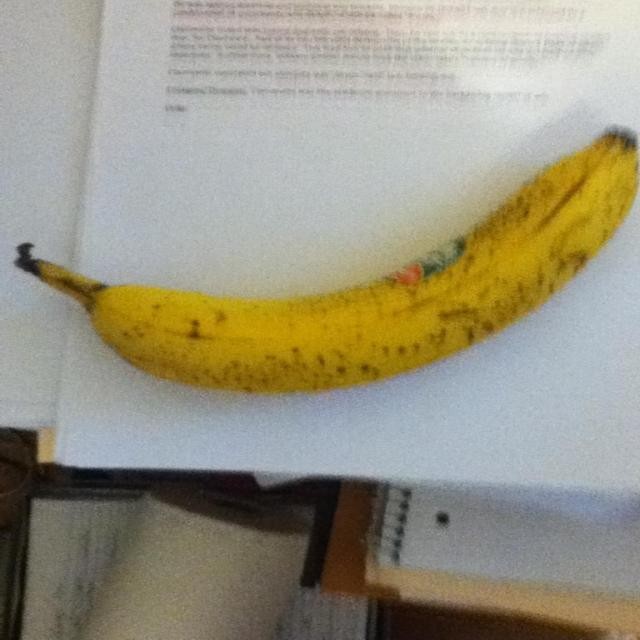banana: (17, 129, 639, 397)
